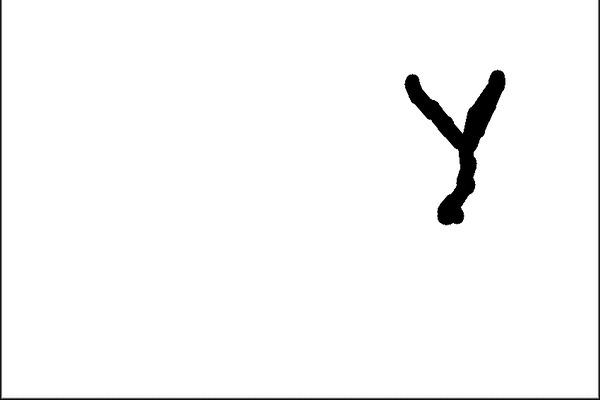Y: (388, 56, 516, 232)
